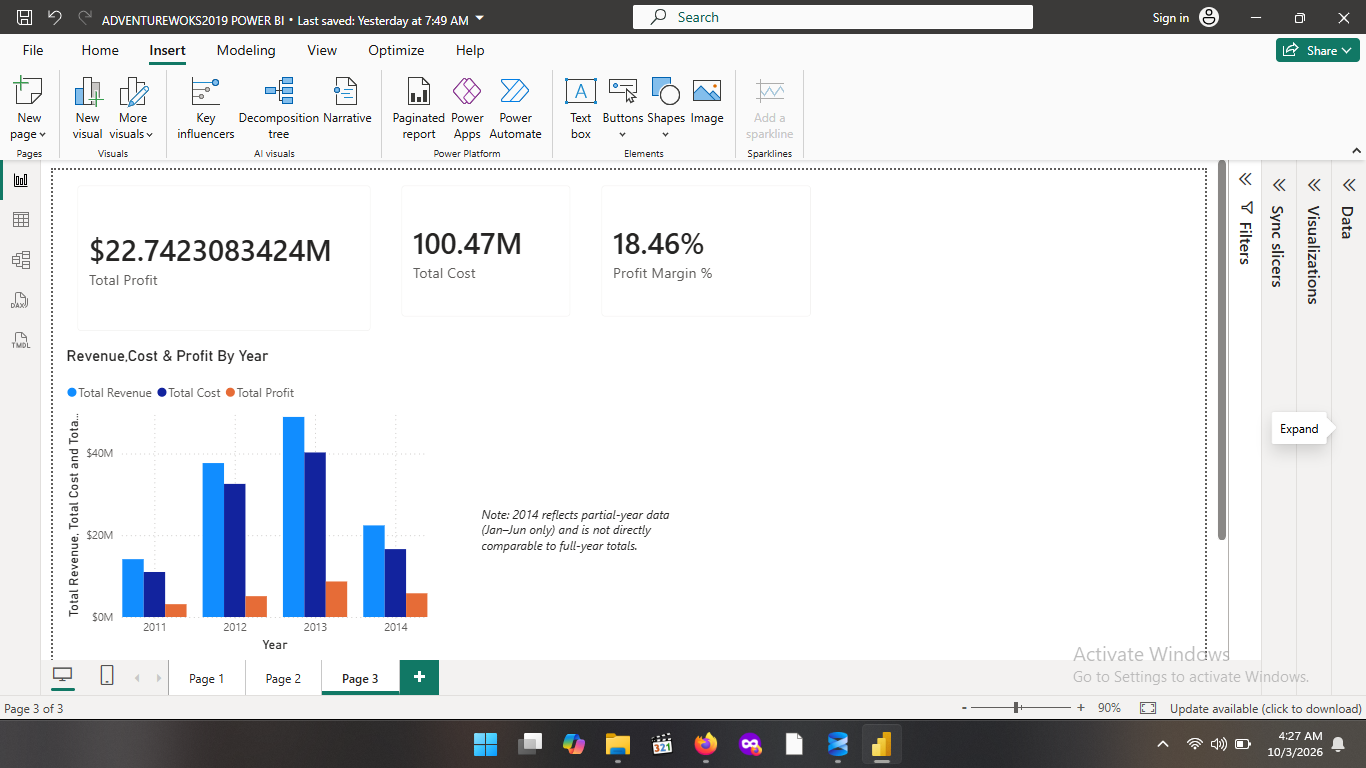

The page's visual inventory and layout, read from the dashboard file:
{"tool":"powerbi","page":{"name":"Page 3","canvas":[1280,720],"ordinal":2},"visuals":[{"type":"cardVisual","fields":{"Data":["Production Product.Total Profit"]},"box":[10,0,360,196.7],"z":0},{"type":"cardVisual","fields":{"Data":["Production Product.Total Cost"]},"box":[370,0,222.2,180],"z":1000},{"type":"cardVisual","fields":{"Data":["Production Product.Profit Margin %"]},"box":[592.2,0,267.8,180],"z":2000},{"type":"clusteredColumnChart","title":"Revenue,Cost & Profit By Year","fields":{"Category":["Date Table.Year"],"Y":["Sales SalesOrderHeader.Total Revenue","Production Product.Total Cost","Production Product.Total Profit"]},"box":[10.2,196.1,730.2,442],"z":3000},{"type":"textbox","box":[777.1,368.8,298.5,146.3],"z":4000}]}

Visuals, with their boxes on the page's 1280x720 design canvas (x1, y1, x2, y2). These are canvas units, not pixel positions in the 1366x768 screenshot, which may show the page scaled, cropped or inside an application window:
cardVisual - Production Product.Total Profit: box=[10, 0, 370, 197]
cardVisual - Production Product.Total Cost: box=[370, 0, 592, 180]
cardVisual - Production Product.Profit Margin %: box=[592, 0, 860, 180]
"Revenue,Cost & Profit By Year" clusteredColumnChart: box=[10, 196, 740, 638]
textbox: box=[777, 369, 1076, 515]
